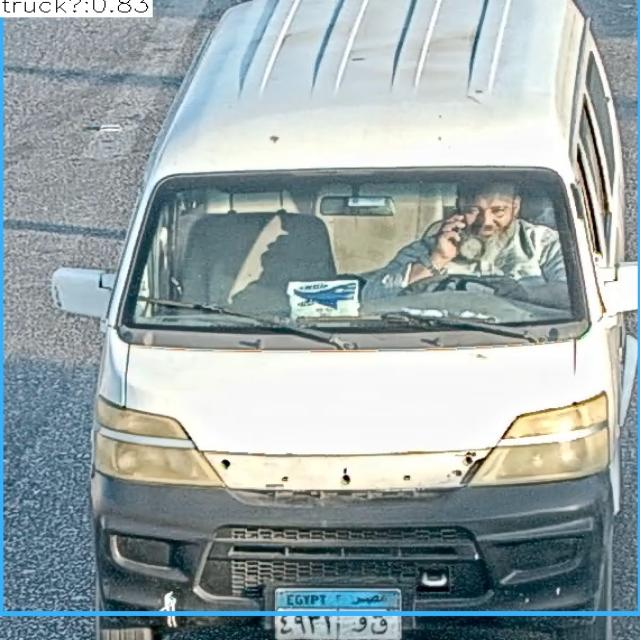windshield: (124, 165, 582, 342)
